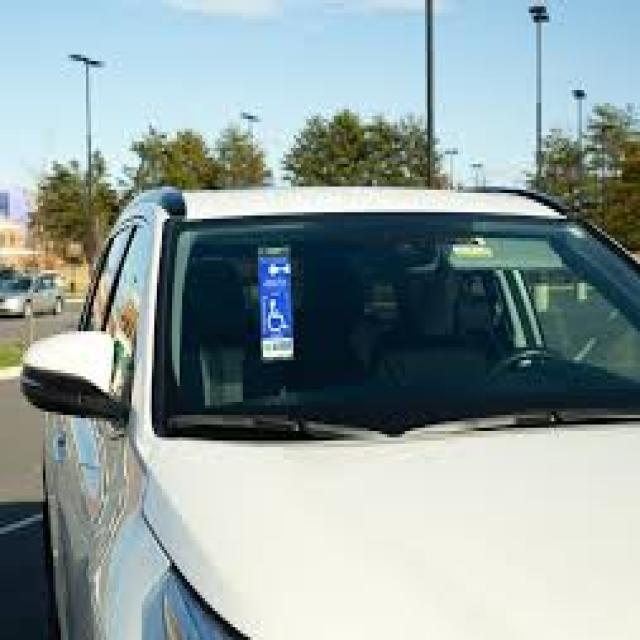symbol_of_access: (266, 298, 290, 335)
